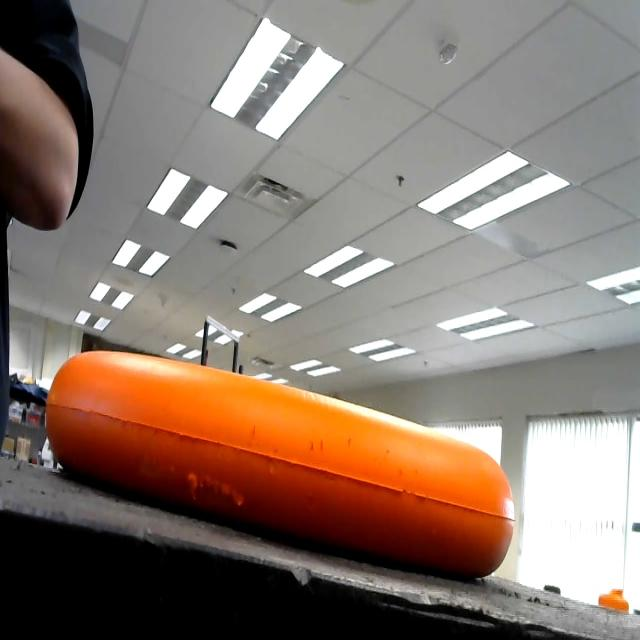note: (34, 321, 529, 611)
